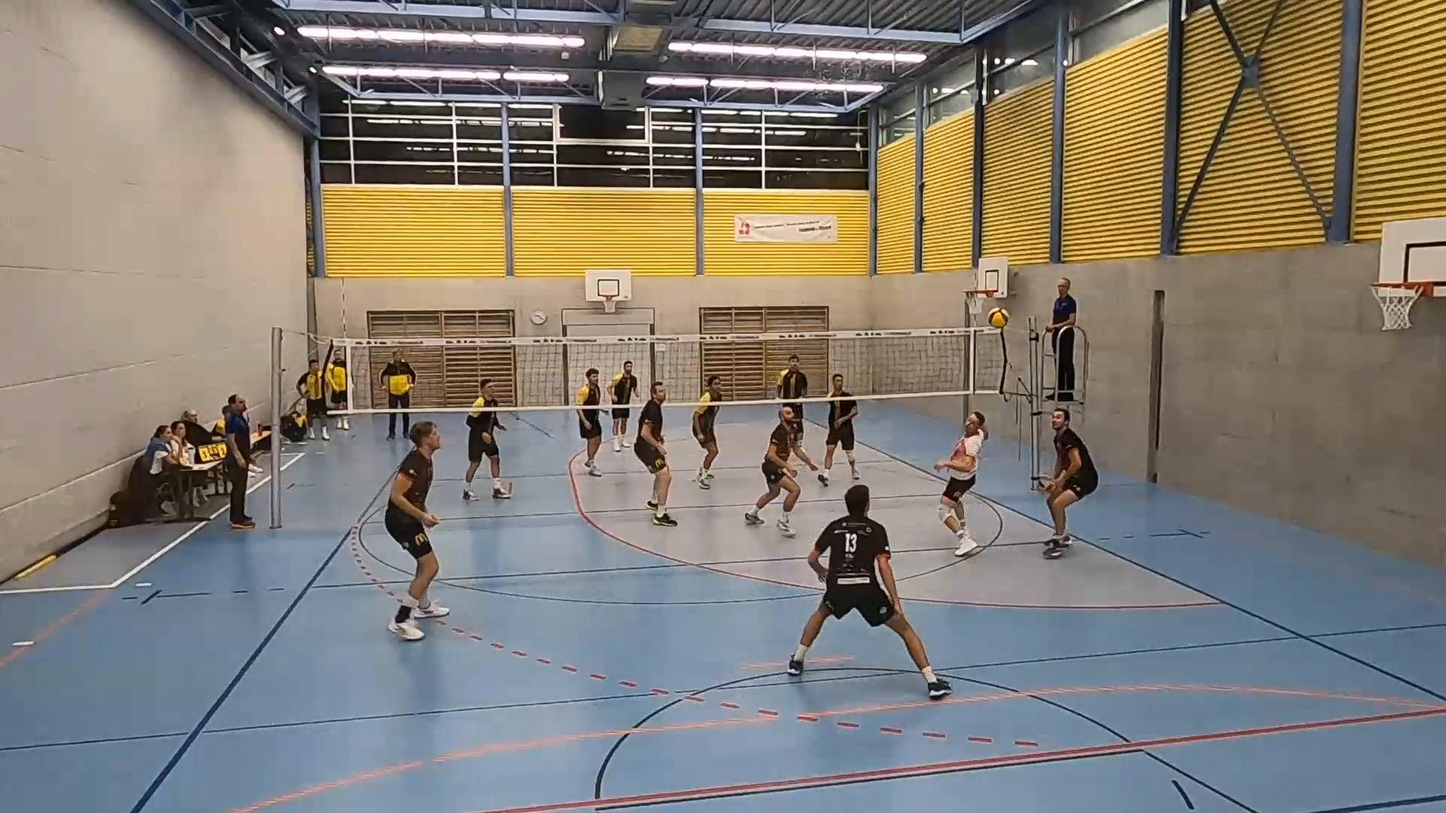Player: (788, 484, 951, 699), (384, 422, 448, 640), (1040, 408, 1097, 559), (935, 411, 987, 556), (745, 406, 800, 537), (634, 382, 677, 526), (462, 379, 511, 500), (819, 373, 859, 485), (691, 375, 722, 489), (575, 368, 602, 476), (610, 361, 638, 452), (782, 403, 816, 470)
ball: (990, 308, 1010, 328)
